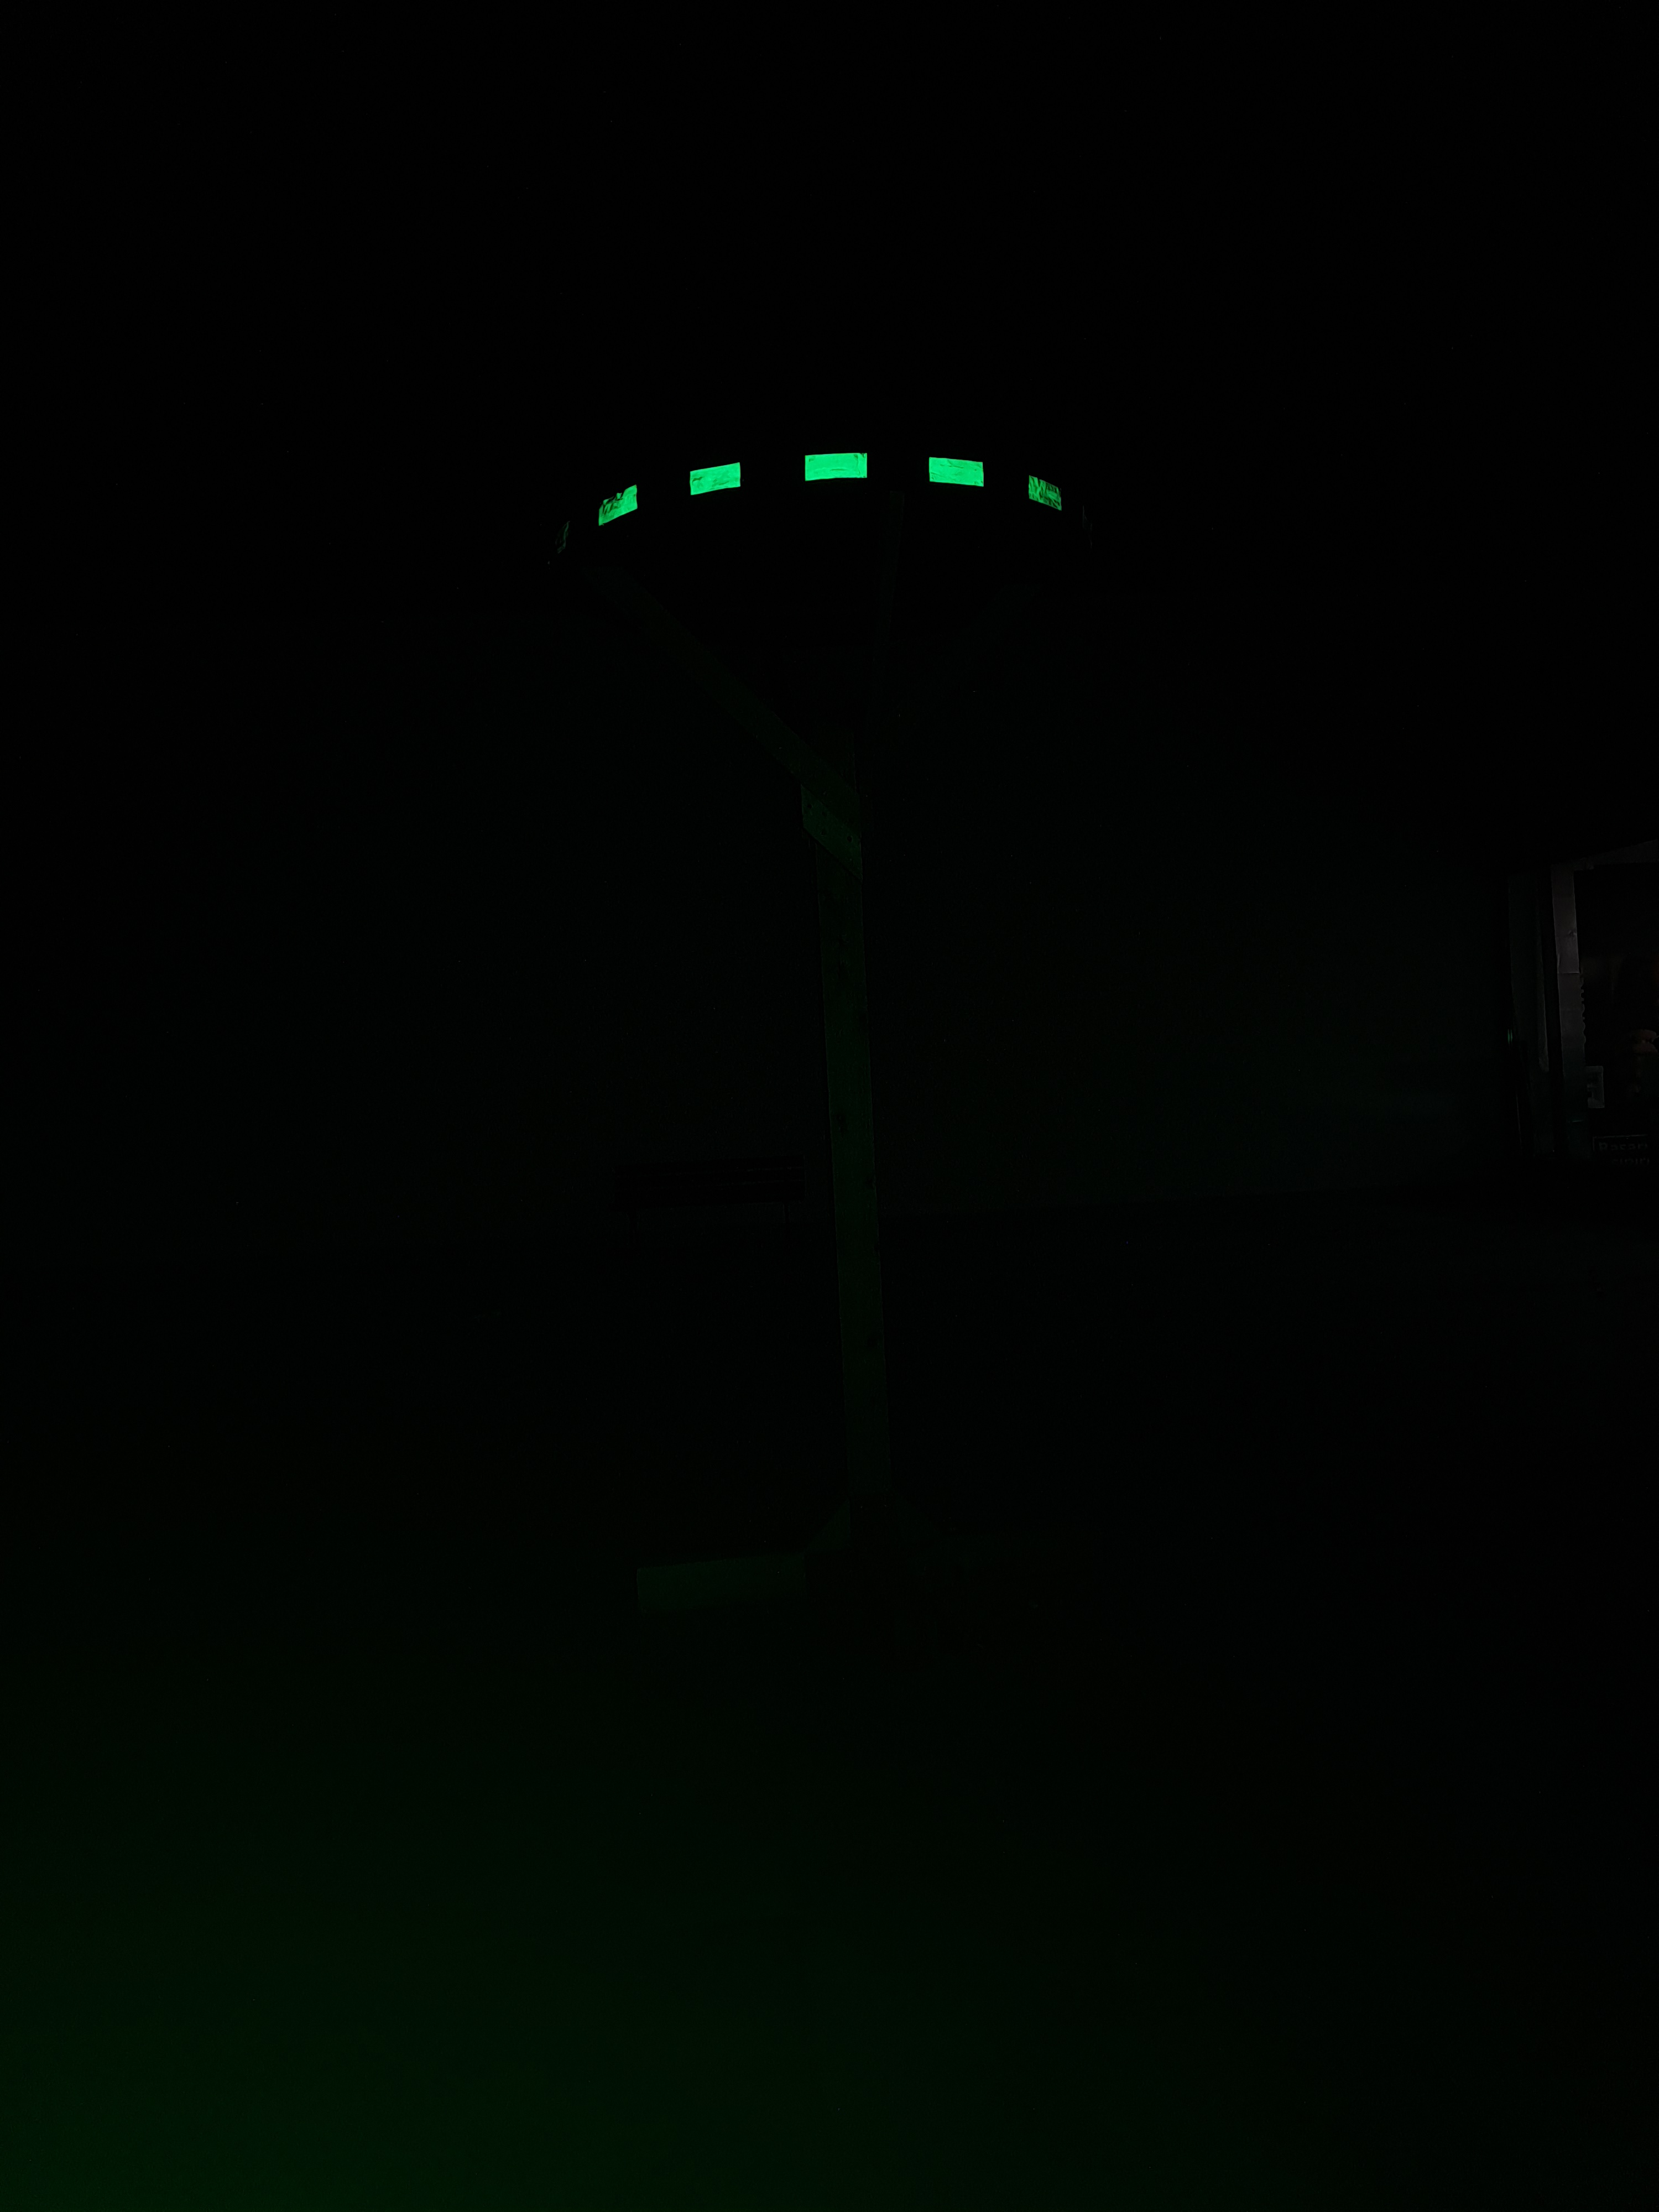hoop: (594, 449, 1066, 529)
